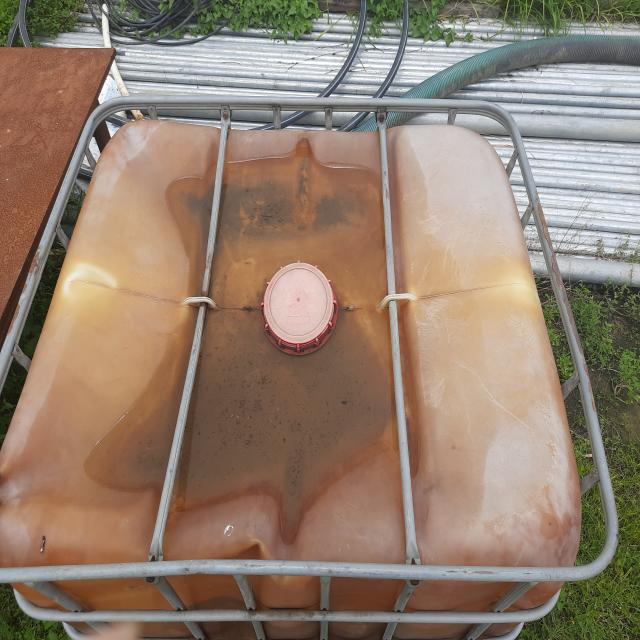Breeding Place: (0, 96, 628, 640), (114, 128, 441, 551), (531, 264, 640, 468)
